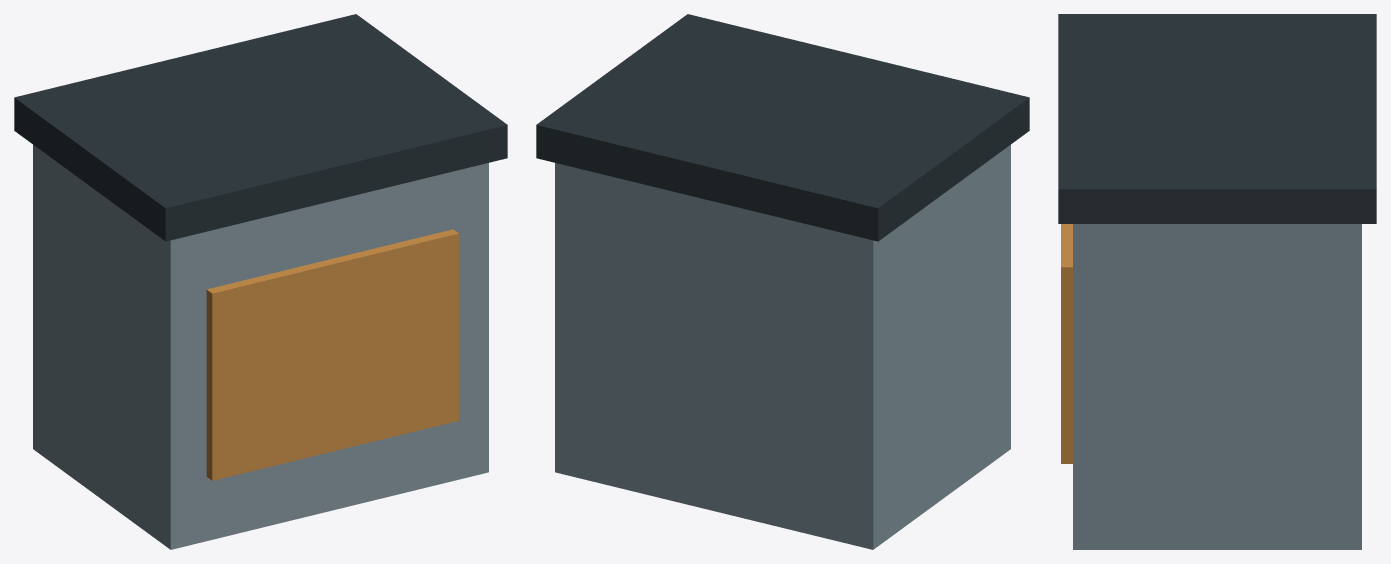
File: Interior_Crate.glb
The picture shows the model from 3 angles, left to right: view 1: azimuth 30°, elevation 25°; view 2: azimuth 150°, elevation 25°; view 3: azimuth 270°, elevation 25°; orthographic projection. The views are drawn at different scales.
Parts seen in each view (by area): view 1: Interior_Crate; view 2: Interior_Crate; view 3: Interior_Crate.
Boxes of the visible parts, bbox=[...] form: Interior_Crate: bbox=[14, 14, 507, 549]; Interior_Crate: bbox=[536, 14, 1029, 549]; Interior_Crate: bbox=[1058, 14, 1376, 549].
Size of the model in its own units: 0.86 by 0.84 by 0.66.
